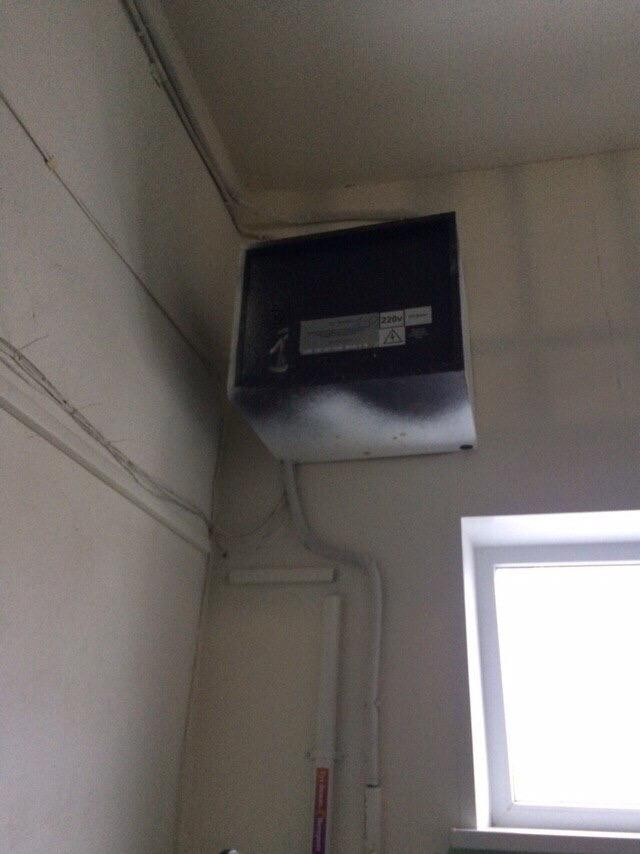shta-9m: (219, 197, 488, 470)
